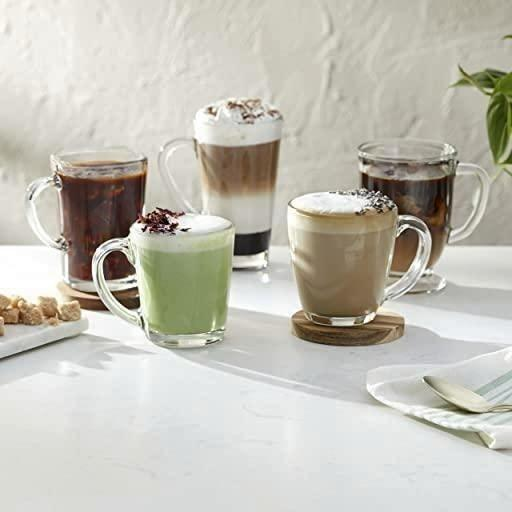glass-mug: (153, 95, 286, 271), (353, 136, 494, 295), (284, 185, 435, 332), (89, 207, 239, 352), (21, 144, 153, 295)
